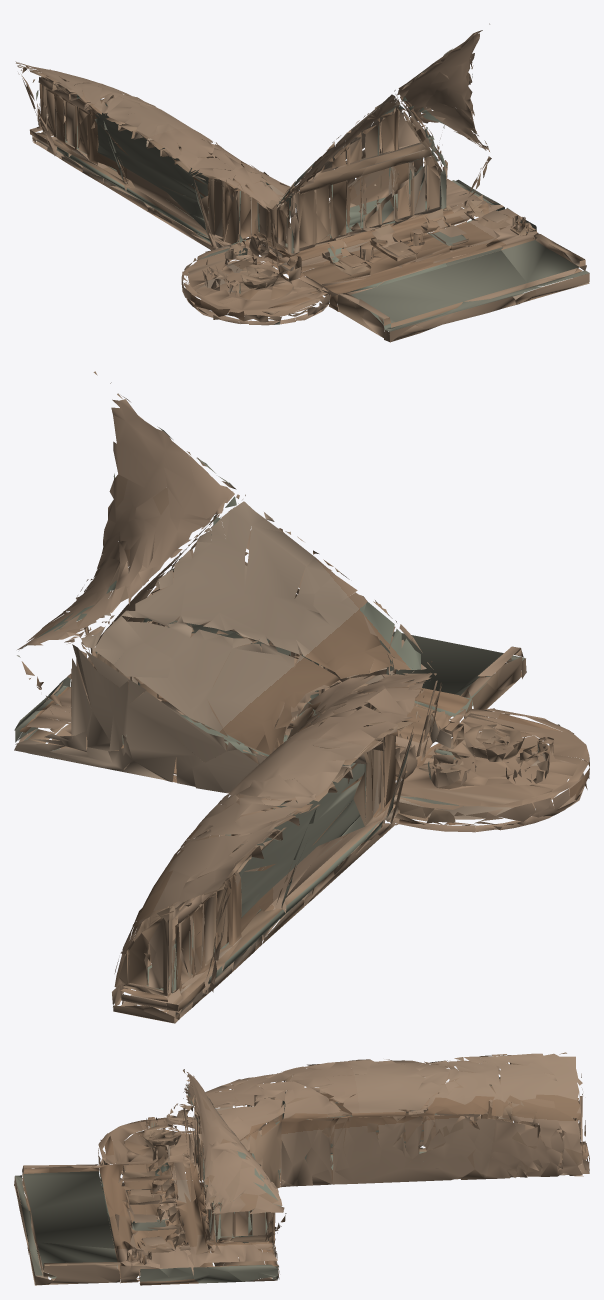
The model's file is flagship.glb.
3 renders of one model, top to bottom at view 1: azimuth 30°, elevation 25°; view 2: azimuth 150°, elevation 25°; view 3: azimuth 270°, elevation 25°, orthographic. The views are drawn at different scales.
Visible parts, largest first — view 1: LO.001; view 2: LO.001; view 3: LO.001.
Part boxes in pixels (<box>): LO.001: <box>15,23,589,342</box>; LO.001: <box>14,371,589,1023</box>; LO.001: <box>14,1052,589,1285</box>.
Bounding box in the file's own units: 1.2 × 0.7633 × 1.89.
1 material, 1 textured.
